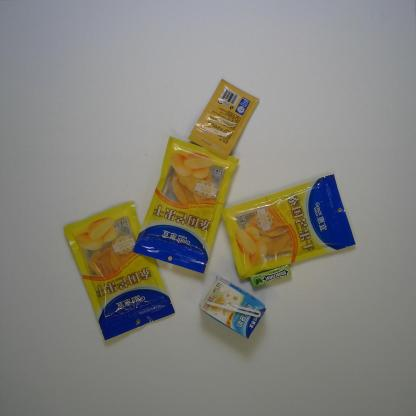Dried Fruit: (62, 199, 180, 343), (219, 170, 358, 283), (130, 135, 242, 275)
Gum: (249, 263, 292, 289)
Milk: (195, 276, 268, 342)
Seasoner: (185, 77, 262, 161)
